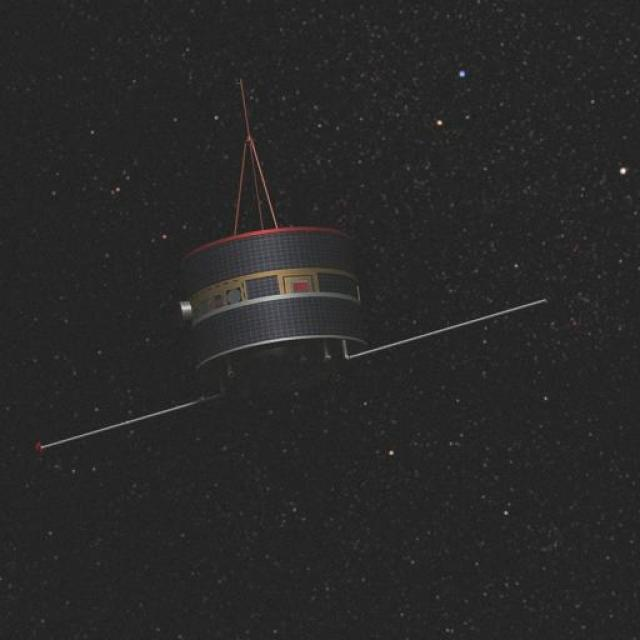double_start: (152, 88, 366, 426)
